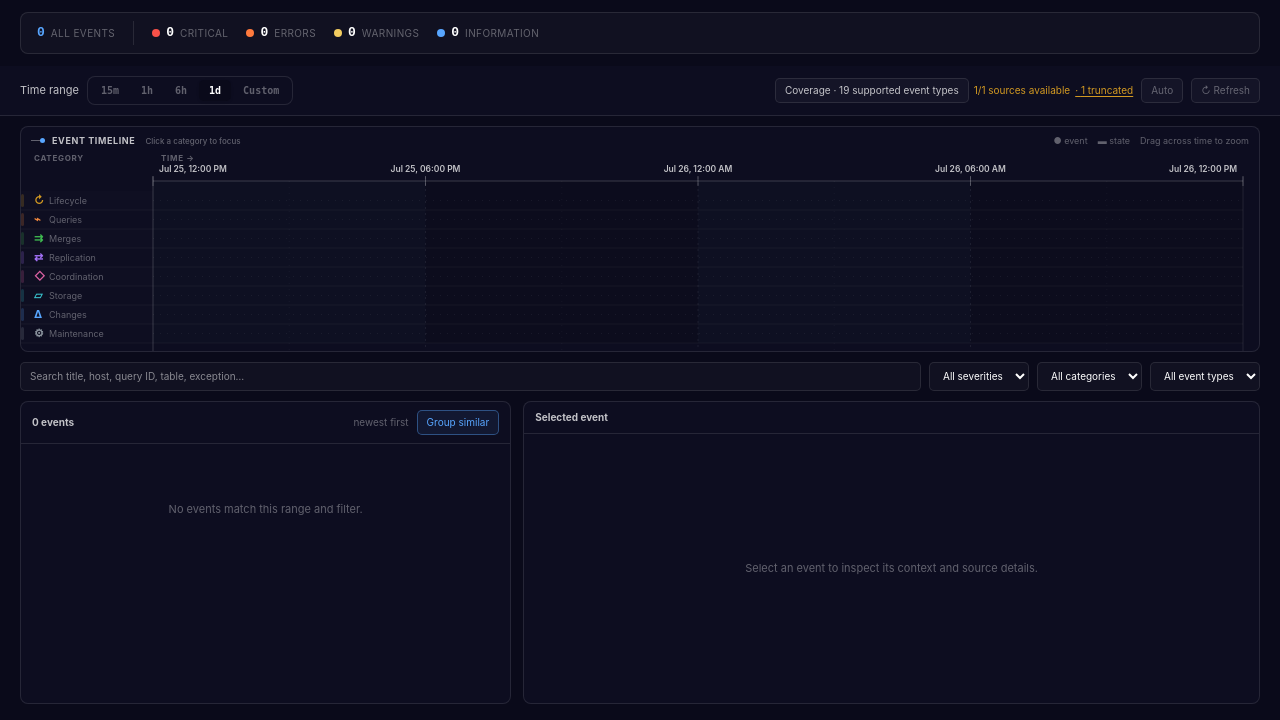
Scenario: EventsDashboard refresh behavior › opens source status directly from the truncation indicator
This screenshot has width=1280, height=720.
Click the button with aria-label "1 source truncated. View source status." at (1104, 90), box top-left (1075, 83), bottom-right (1133, 98)
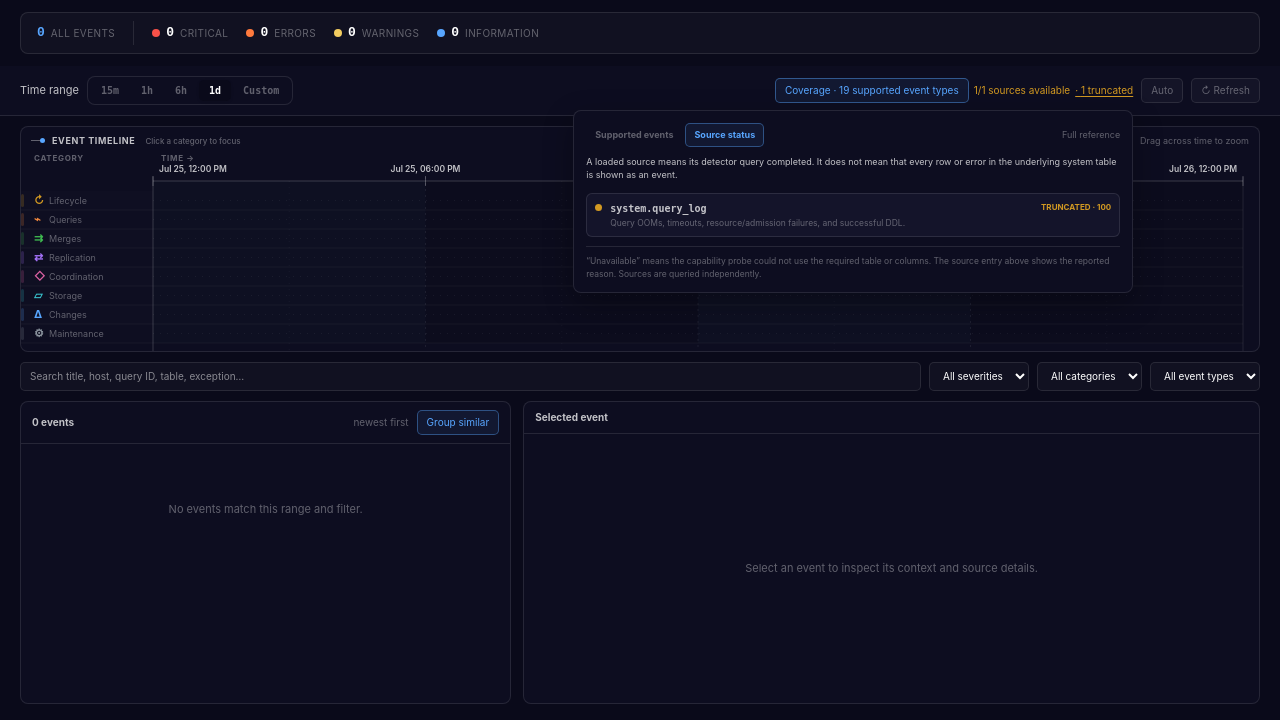
Result: the text "truncated · 100" is shown at top-left (1041, 200), bottom-right (1111, 212)
